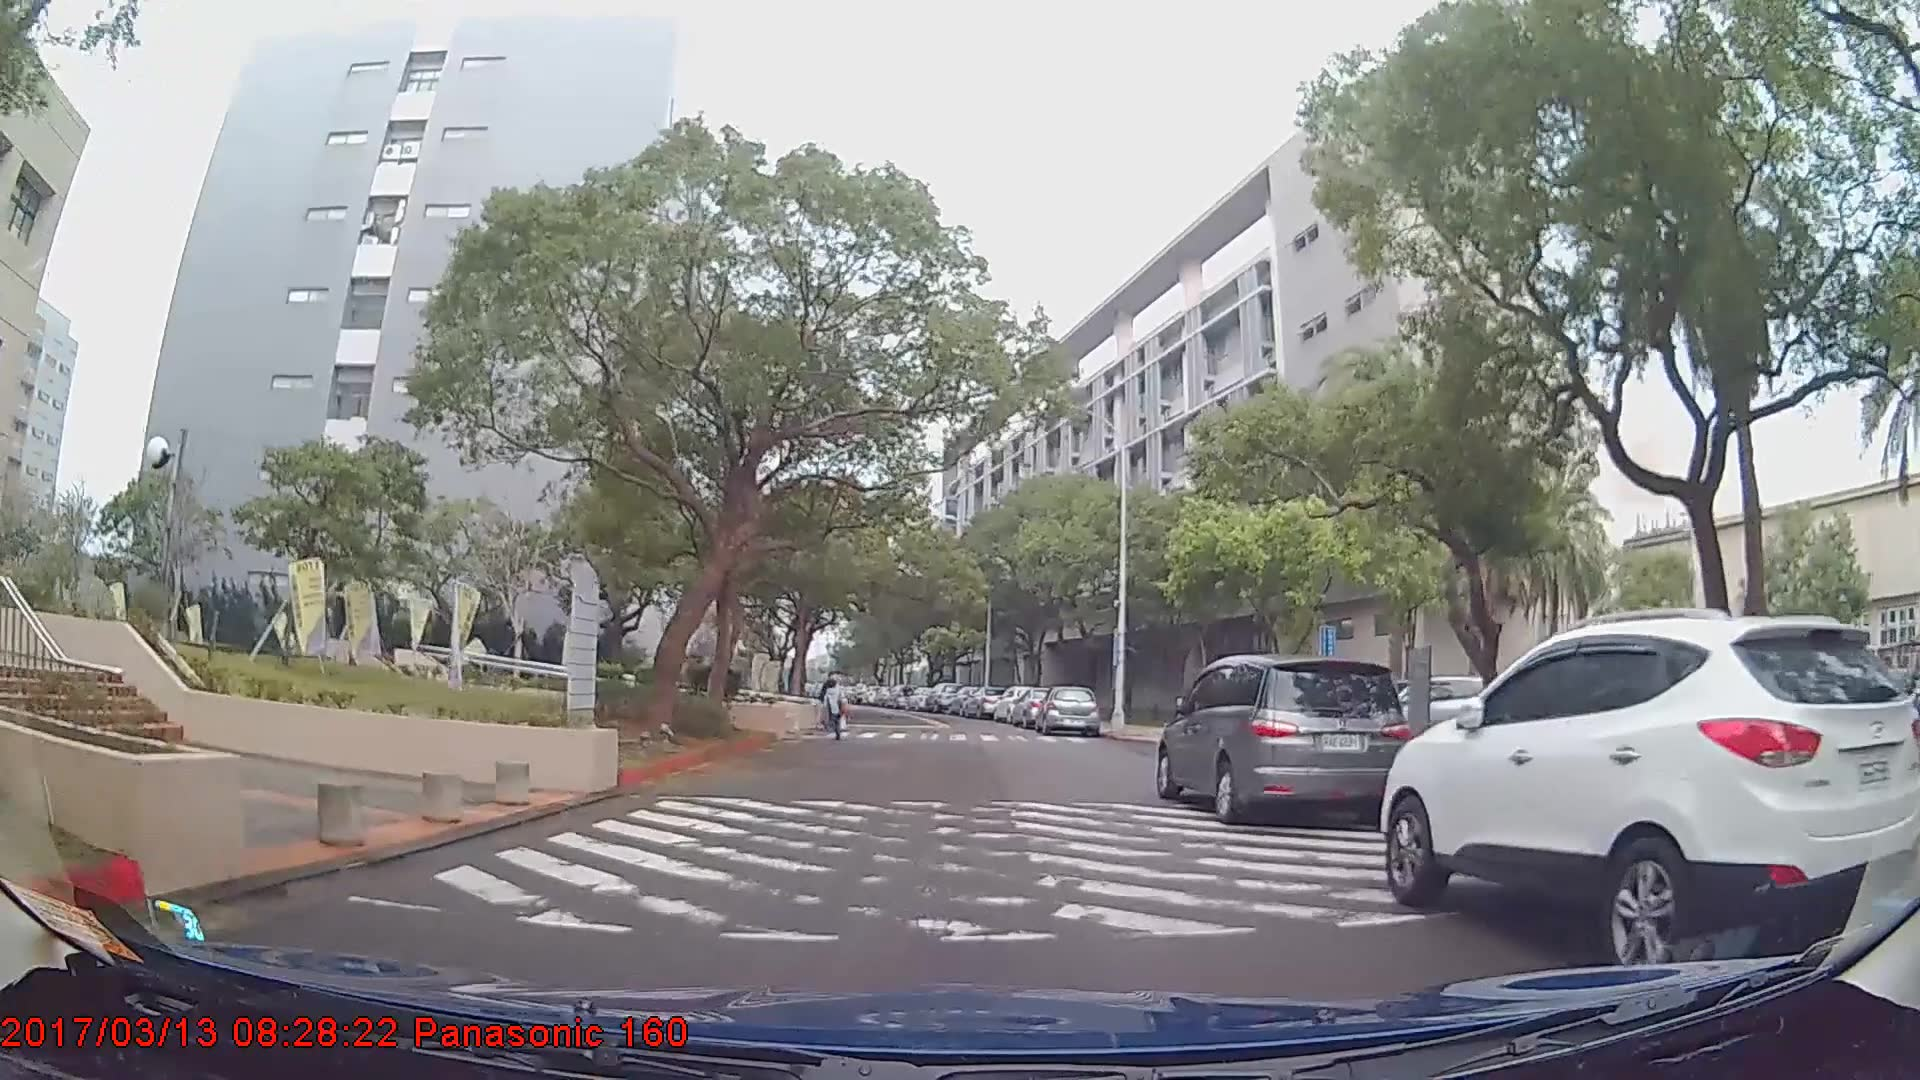pedestrian: (821, 680, 852, 745), (818, 668, 844, 730)
vehicle: (1382, 610, 1920, 977), (1156, 652, 1411, 826), (1041, 682, 1101, 735), (922, 680, 961, 712), (965, 687, 1006, 718)
